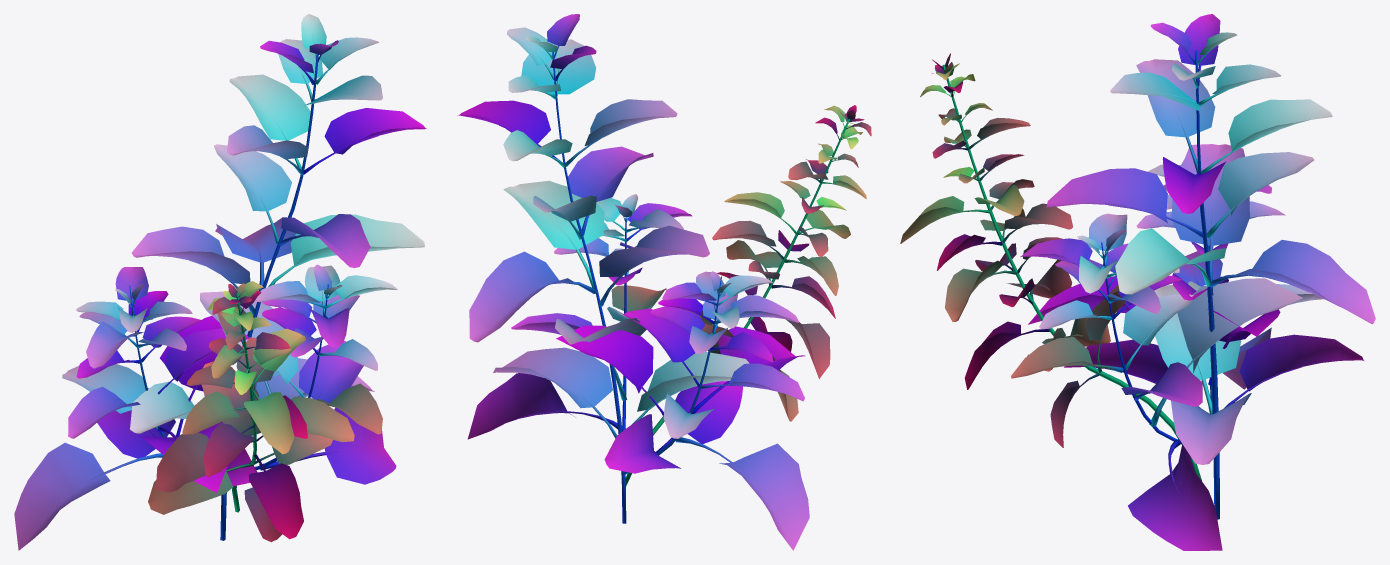
The model's file is Lemon_Balm_umslacdia_Mid_umslacdia_VarE_LOD1.fbx.
The picture shows the model from 3 angles, left to right: view 1: azimuth 30°, elevation 25°; view 2: azimuth 150°, elevation 25°; view 3: azimuth 270°, elevation 25°; orthographic projection. The views are drawn at different scales.
Parts seen in each view (by area): view 1: _kvb8_VarE_LOD3; view 2: _kvb8_VarE_LOD3; view 3: _kvb8_VarE_LOD3.
Boxes of the visible parts, x1=… form: _kvb8_VarE_LOD3: x1=14, y1=14, x2=426, y2=550; _kvb8_VarE_LOD3: x1=457, y1=14, x2=871, y2=550; _kvb8_VarE_LOD3: x1=900, y1=14, x2=1375, y2=550.
Bounding box in the file's own units: 55.17 × 68.62 × 55.32.
